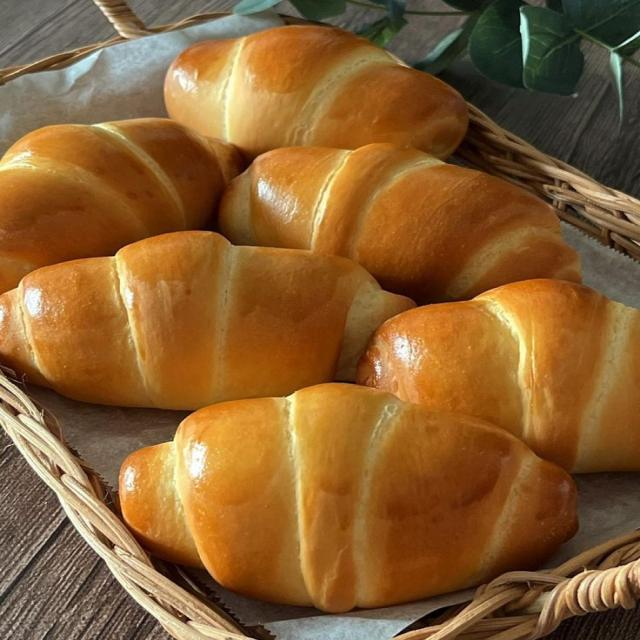bread: (120, 384, 576, 612), (0, 231, 413, 409), (220, 144, 579, 302), (358, 280, 639, 472), (0, 119, 243, 292), (165, 26, 467, 157)
